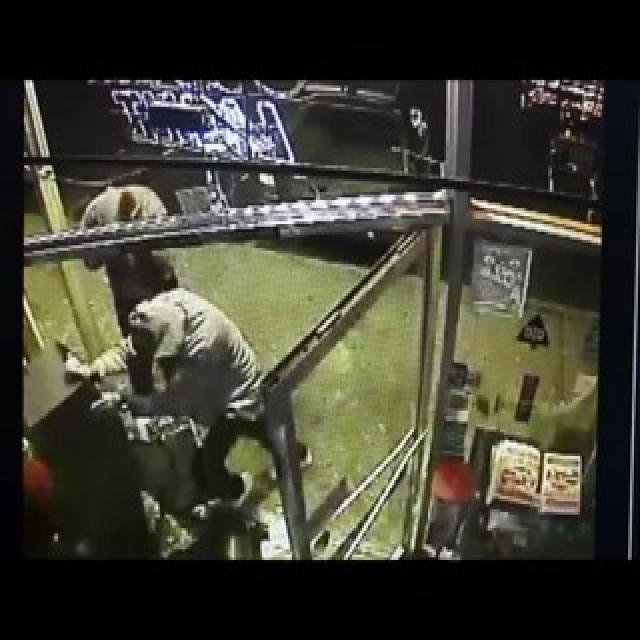thief: (117, 190, 178, 378)
